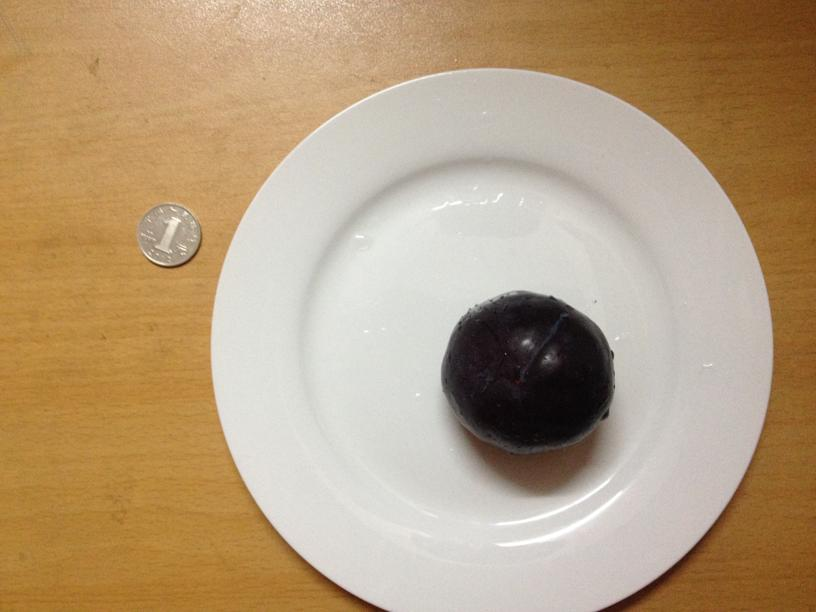coin: (129, 204, 200, 268)
plum: (435, 290, 613, 455)
